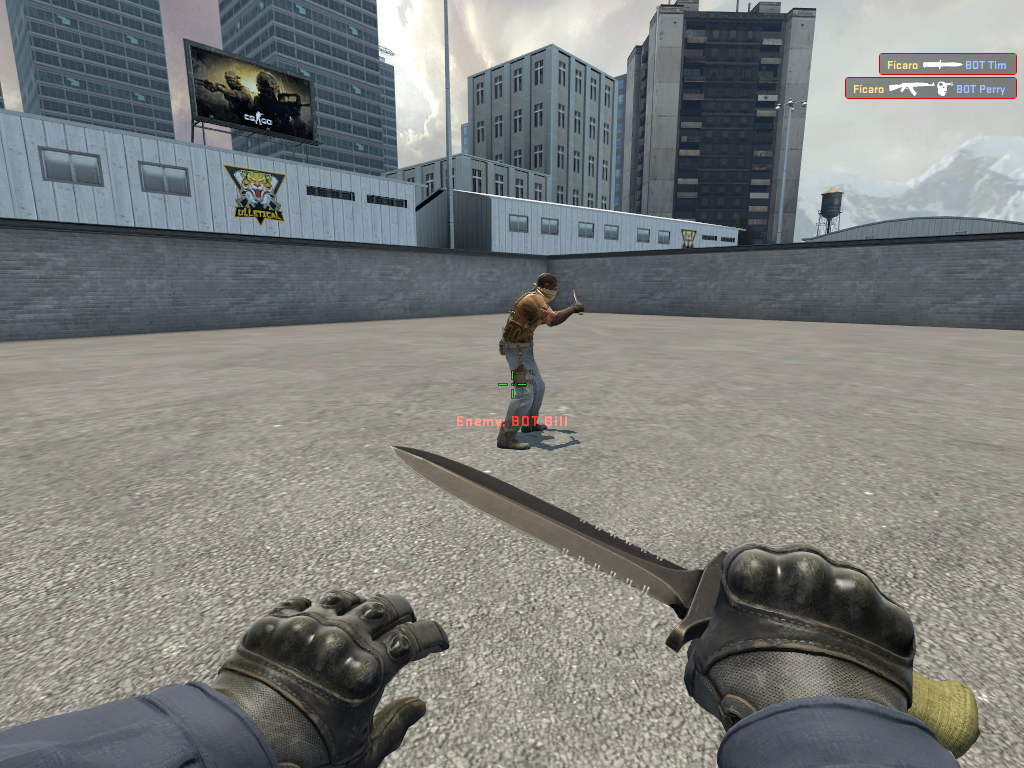tr head: (536, 268, 559, 303)
